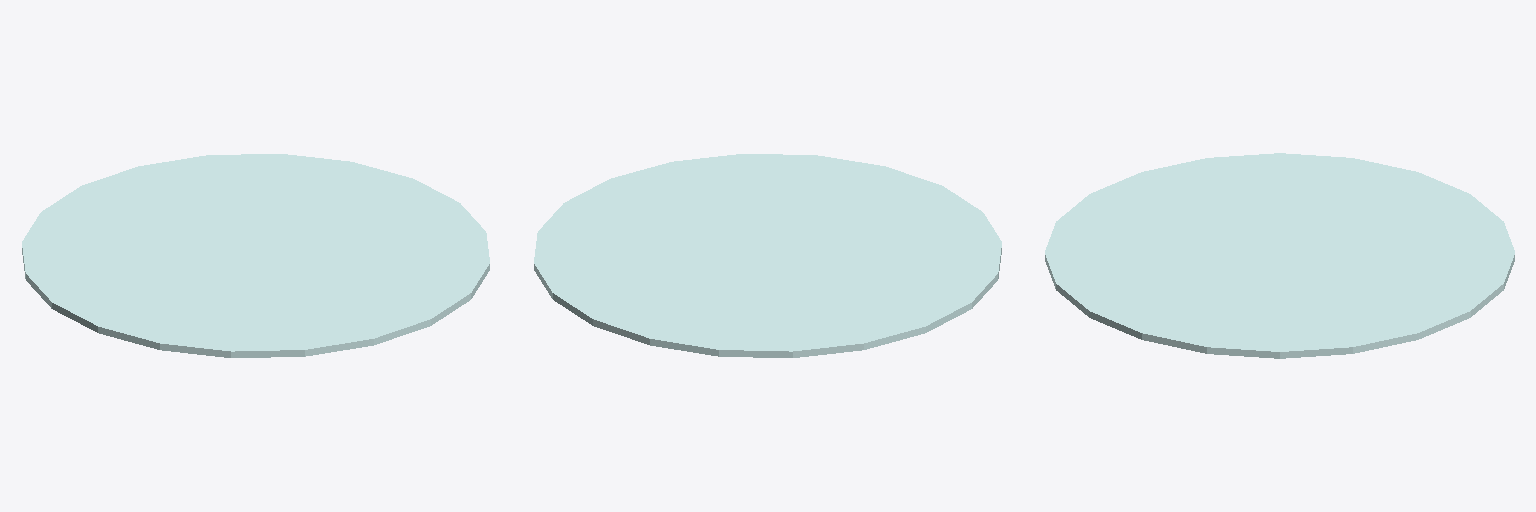
File: Universal Platform.obj
3 views of the same model, side by side, from view 1: azimuth 30°, elevation 25°; view 2: azimuth 150°, elevation 25°; view 3: azimuth 270°, elevation 25° (orthographic).
Parts seen in each view (by area): view 1: Universal Platform; view 2: Universal Platform; view 3: Universal Platform.
Part boxes in pixels (x1,y1,x2,y2): Universal Platform: (22, 154, 489, 357); Universal Platform: (534, 154, 1001, 357); Universal Platform: (1045, 153, 1514, 358).
Bounding box in the file's own units: 1.51 × 0.024 × 1.51.